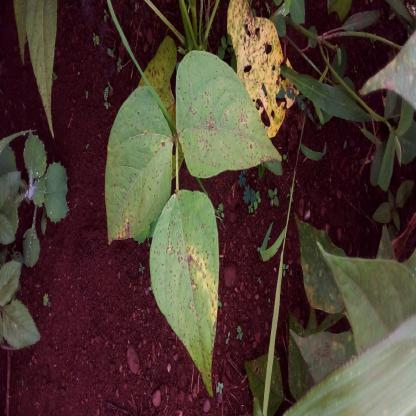Beans_Rust: (148, 188, 220, 397), (171, 51, 284, 177), (106, 84, 174, 248), (226, 0, 299, 140)
